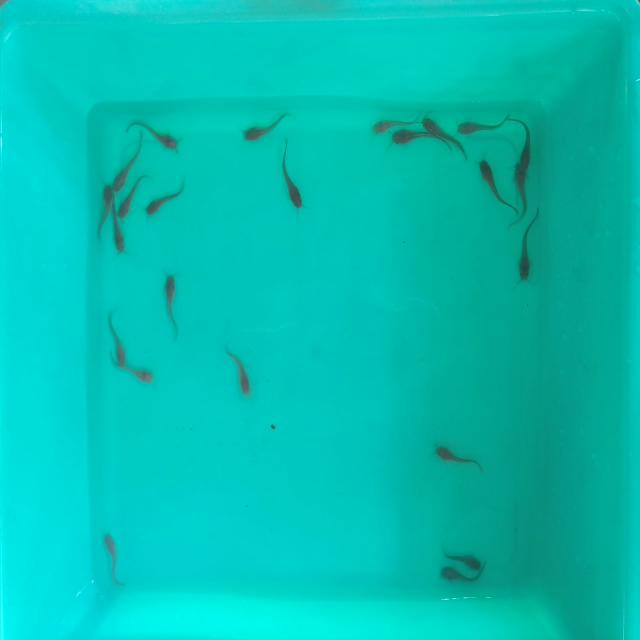lele: (109, 135, 152, 194), (476, 162, 509, 220), (125, 118, 178, 154), (107, 352, 157, 387), (142, 179, 188, 217), (431, 444, 487, 474), (243, 110, 292, 144), (119, 173, 152, 222), (225, 343, 256, 395), (279, 150, 305, 212), (161, 270, 181, 338), (439, 545, 484, 573), (103, 532, 125, 589), (519, 219, 539, 281), (456, 114, 510, 136), (105, 312, 126, 364), (440, 565, 486, 586), (372, 111, 417, 132), (513, 166, 529, 224), (422, 115, 454, 140), (518, 109, 530, 169), (111, 221, 129, 258), (98, 178, 112, 223), (392, 128, 425, 146)
